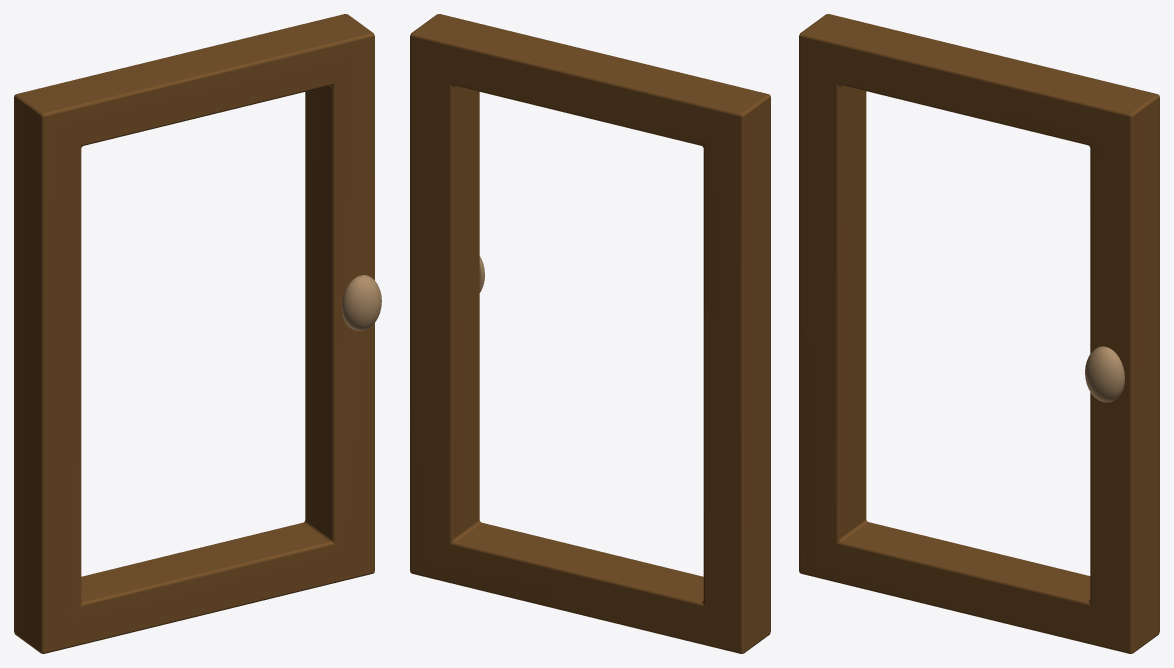
Rendered from SM_Shelf_Wood_01_Door_L.fbx.
The picture shows the model from 3 angles, left to right: view 1: azimuth 30°, elevation 25°; view 2: azimuth 150°, elevation 25°; view 3: azimuth 330°, elevation 25°; orthographic projection.
Visible parts, largest first — view 1: Cube.012, Sphere; view 2: Cube.012; view 3: Cube.012, Sphere.
Part boxes in pixels (box(x1,y1,x2,y2)): Cube.012: box(14, 14, 374, 653); Sphere: box(341, 275, 381, 330); Cube.012: box(410, 14, 770, 653); Cube.012: box(799, 14, 1159, 653); Sphere: box(1085, 346, 1124, 402).
Size of the model in its own units: 59.67 by 92.24 by 13.41.
